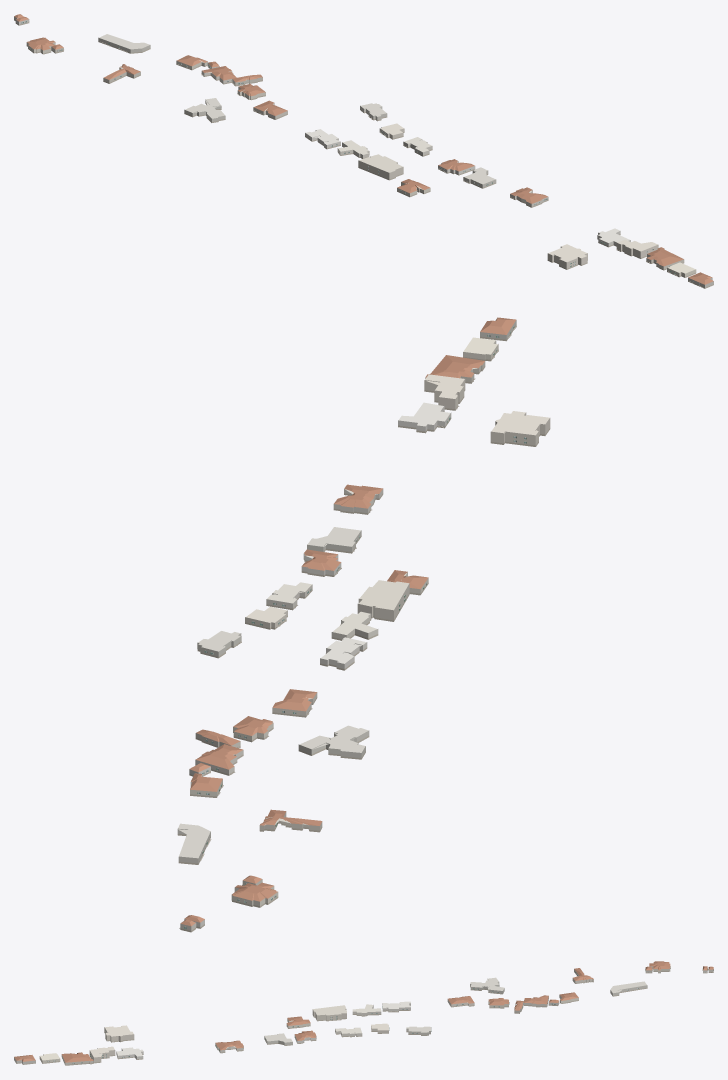
File: nw_villas.glb
3 renders of one model, top to bottom at view 1: azimuth 30°, elevation 25°; view 2: azimuth 150°, elevation 25°; view 3: azimuth 270°, elevation 25°, orthographic. The views are drawn at different scales.
Parts seen in each view (by area): view 1: nw_villas_lod0; view 2: nw_villas_lod0; view 3: nw_villas_lod0.
Part boxes in pixels (left/top/right/bottom): nw_villas_lod0: left=14, top=14, right=713, bottom=288; nw_villas_lod0: left=177, top=317, right=550, bottom=932; nw_villas_lod0: left=14, top=961, right=713, bottom=1065.
Size of what is drawn, in the model's own units: 271 by 14.16 by 776.
